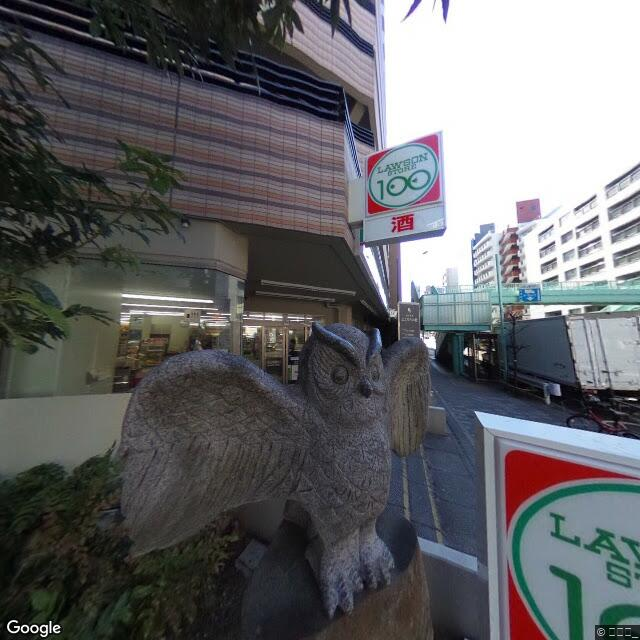lawson: (492, 426, 640, 604), (368, 135, 439, 212)
